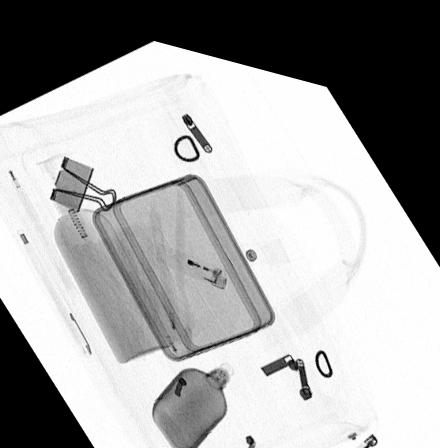Lighter: (155, 232, 227, 276)
